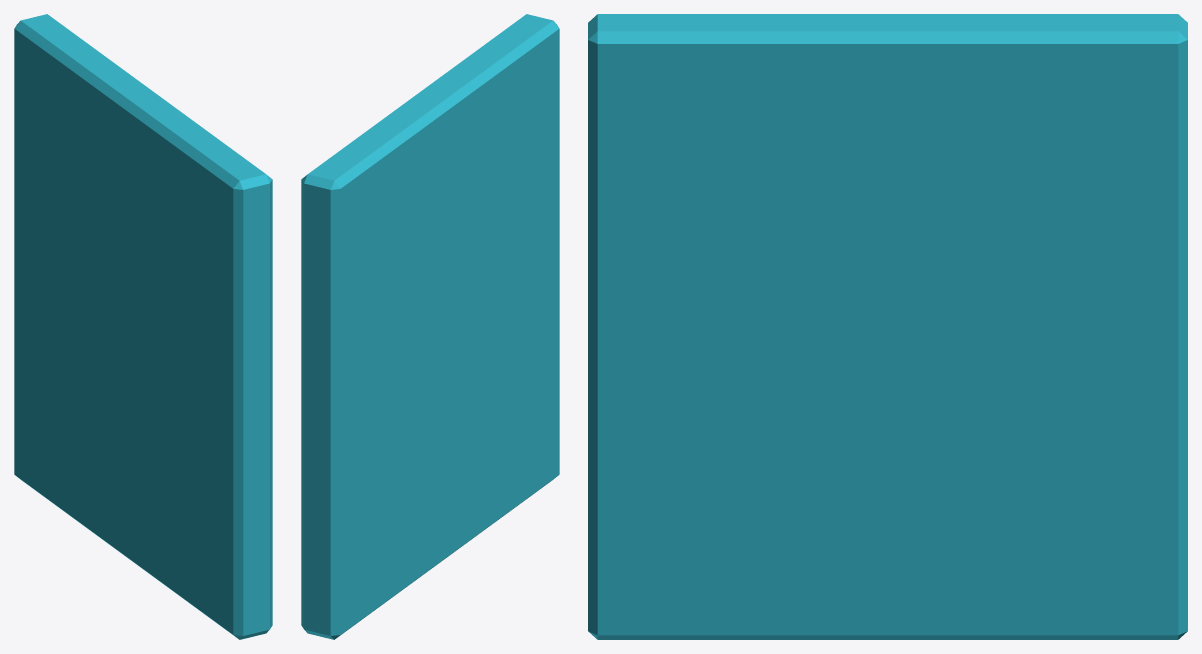
The model's file is glass_panel.glb.
The picture shows the model from 3 angles, left to right: view 1: azimuth 30°, elevation 25°; view 2: azimuth 150°, elevation 25°; view 3: azimuth 270°, elevation 25°; orthographic projection. The views are drawn at different scales.
Parts seen in each view (by area): view 1: glass_panel; view 2: glass_panel; view 3: glass_panel.
Boxes of the visible parts, x1,y1,x2,y2 form: glass_panel: (14, 14, 272, 639); glass_panel: (301, 14, 559, 639); glass_panel: (588, 14, 1187, 639).
Bounding box in the file's own units: 0.05 × 0.56 × 0.5.
